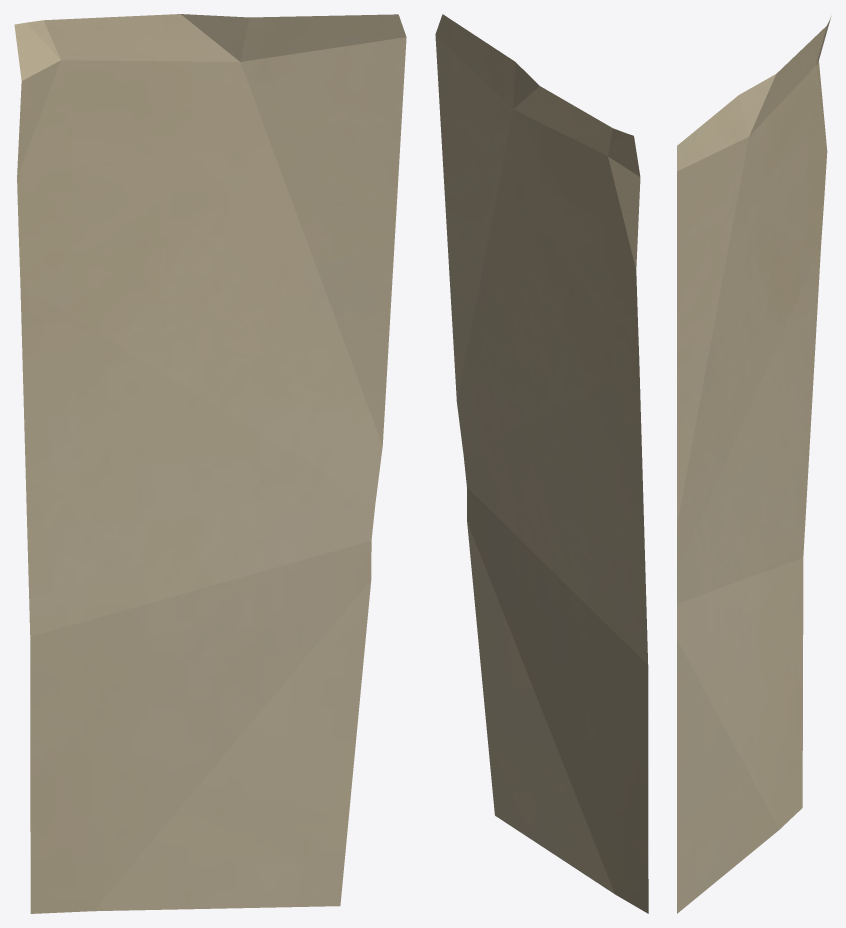
The picture shows the model from 3 angles, left to right: view 1: azimuth 30°, elevation 25°; view 2: azimuth 150°, elevation 25°; view 3: azimuth 270°, elevation 25°; orthographic projection. The views are drawn at different scales.
Size of the model in its own units: 0.3061 by 0.8374 by 0.1481.
Materials: 1 (1 with a texture image).
